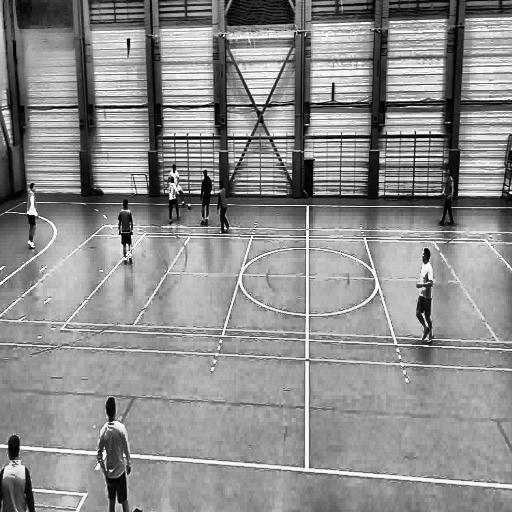ball: (187, 201, 193, 212)
player: (96, 391, 133, 512), (416, 246, 437, 350), (117, 200, 137, 264), (438, 166, 457, 228), (166, 159, 186, 211), (26, 183, 40, 252), (198, 168, 213, 230), (216, 178, 231, 239), (167, 177, 182, 228)
